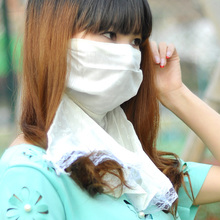face_mask: (64, 0, 144, 98)
